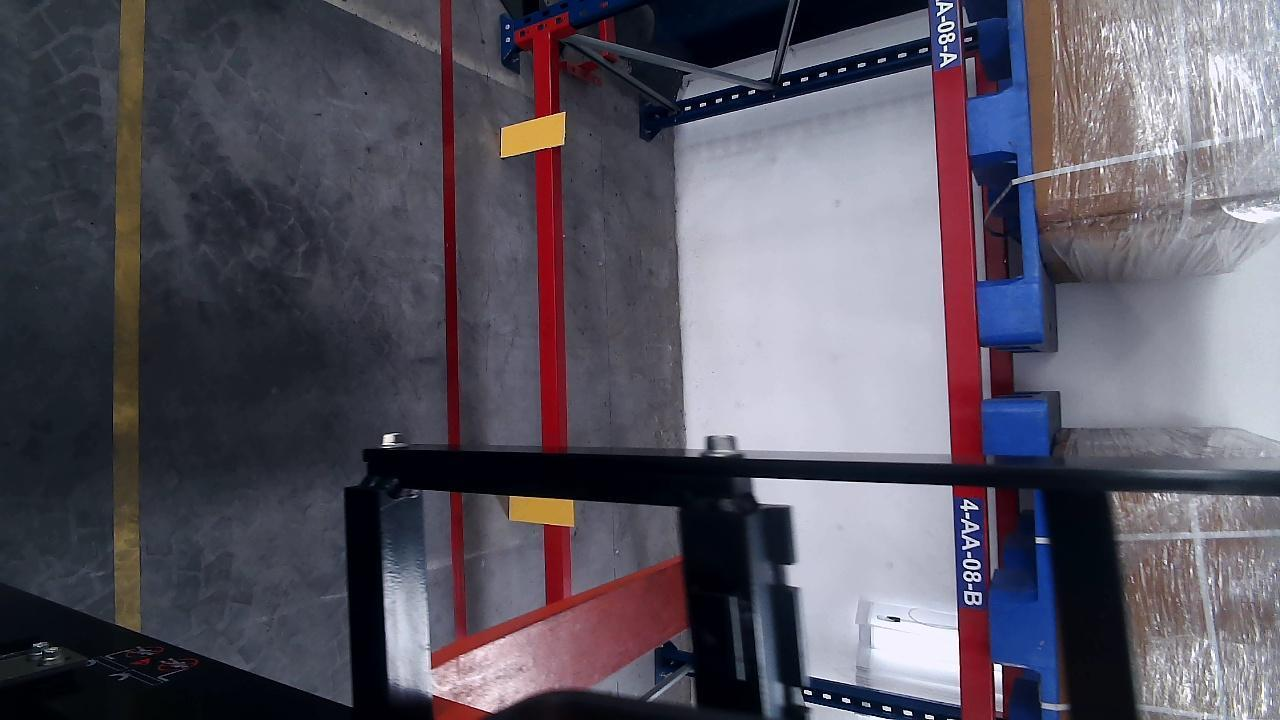red_line: (438, 0, 470, 642)
yellow_line: (115, 1, 146, 633)
